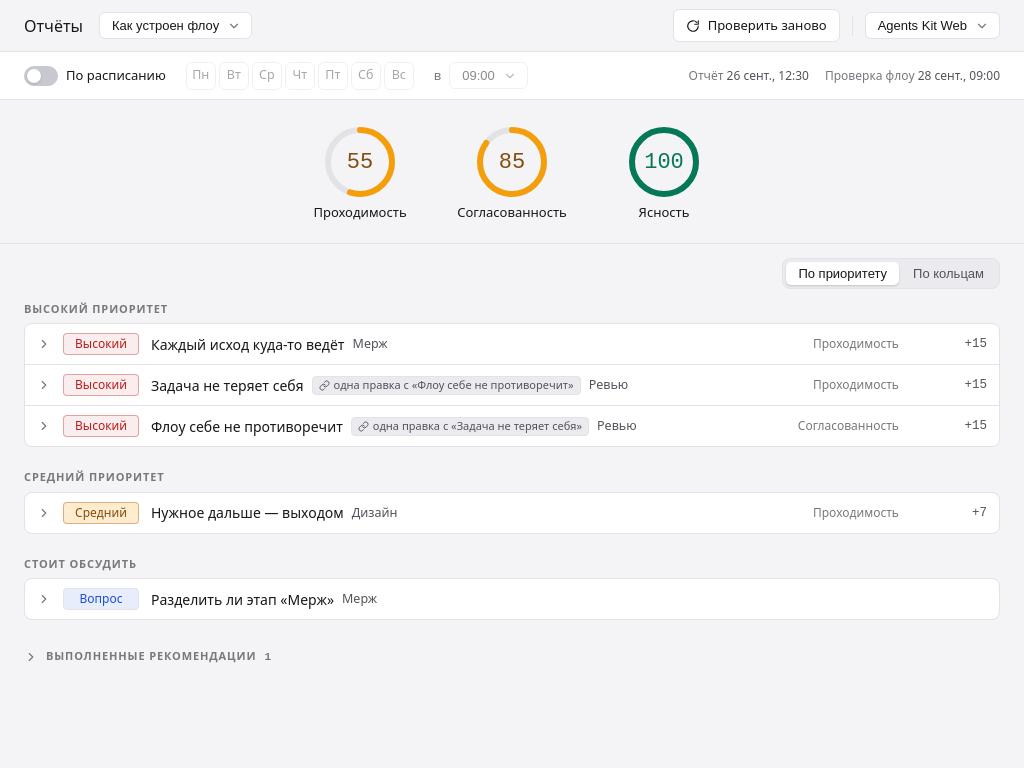
Test case: по кольцам находки стоят под своим кольцом со счётом рекомендаций, без «вычтено»
Click the tab "По кольцам" at [949, 273], box [901, 262, 996, 285]
(page scrolled)
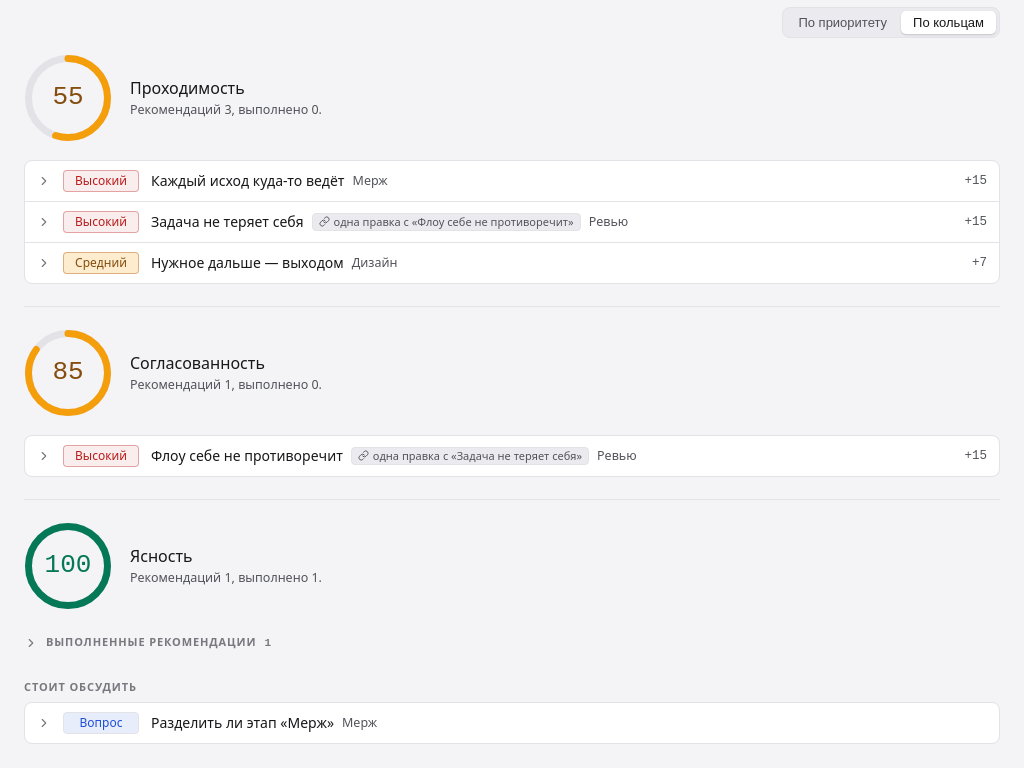
Expected: the text "Выполненные рекомендации" is shown, [46, 634, 256, 649]
Expected: the text "Рекомендаций 1, выполнено 0." is shown, [130, 376, 322, 393]
Expected: the text "Флоу себе не противоречит" is shown, [151, 445, 343, 466]
